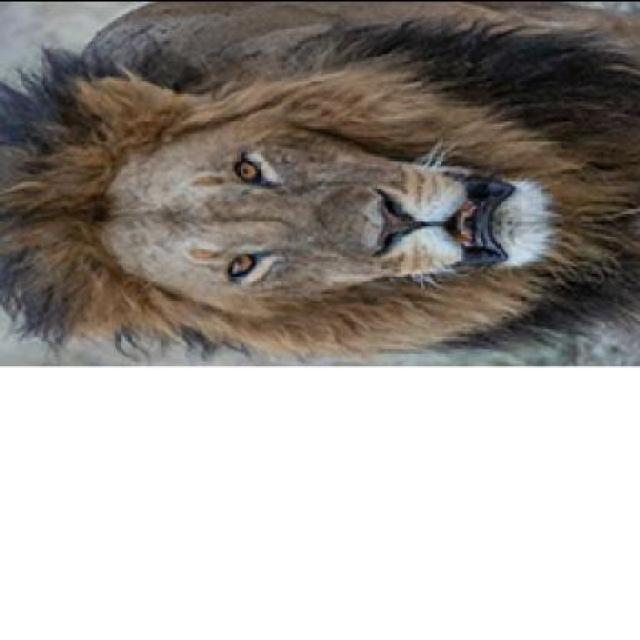Lion: (4, 2, 638, 364)
